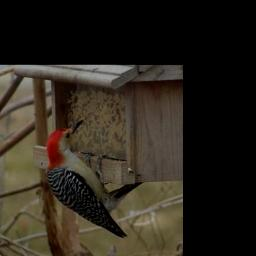Woodpecker: (42, 118, 137, 234)
